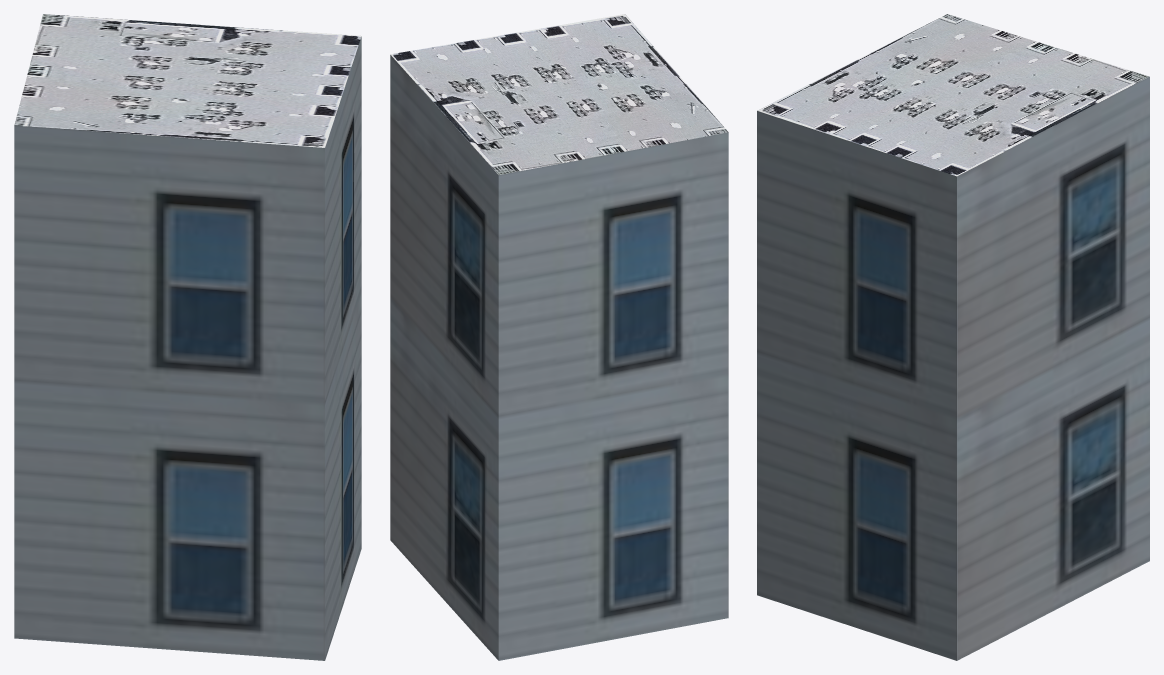
The model's file is ResTex__3369.fbx.
3 renders of one model, left to right at view 1: azimuth 30°, elevation 25°; view 2: azimuth 150°, elevation 25°; view 3: azimuth 270°, elevation 25°, orthographic. The views are drawn at different scales.
Visible parts, largest first — view 1: CityEngineMaterial_18_m, CityEngineMaterial_m; view 2: CityEngineMaterial_18_m, CityEngineMaterial_m; view 3: CityEngineMaterial_18_m, CityEngineMaterial_m.
Boxes of the visible parts, x1,y1,x2,y2 form: CityEngineMaterial_18_m: [14, 36, 361, 660]; CityEngineMaterial_m: [14, 14, 361, 147]; CityEngineMaterial_18_m: [390, 55, 728, 660]; CityEngineMaterial_m: [390, 14, 728, 174]; CityEngineMaterial_18_m: [757, 76, 1149, 660]; CityEngineMaterial_m: [757, 14, 1149, 176].
Bounding box in the file's own units: 4.31 × 6 × 4.41.
2 materials, 2 textured.
